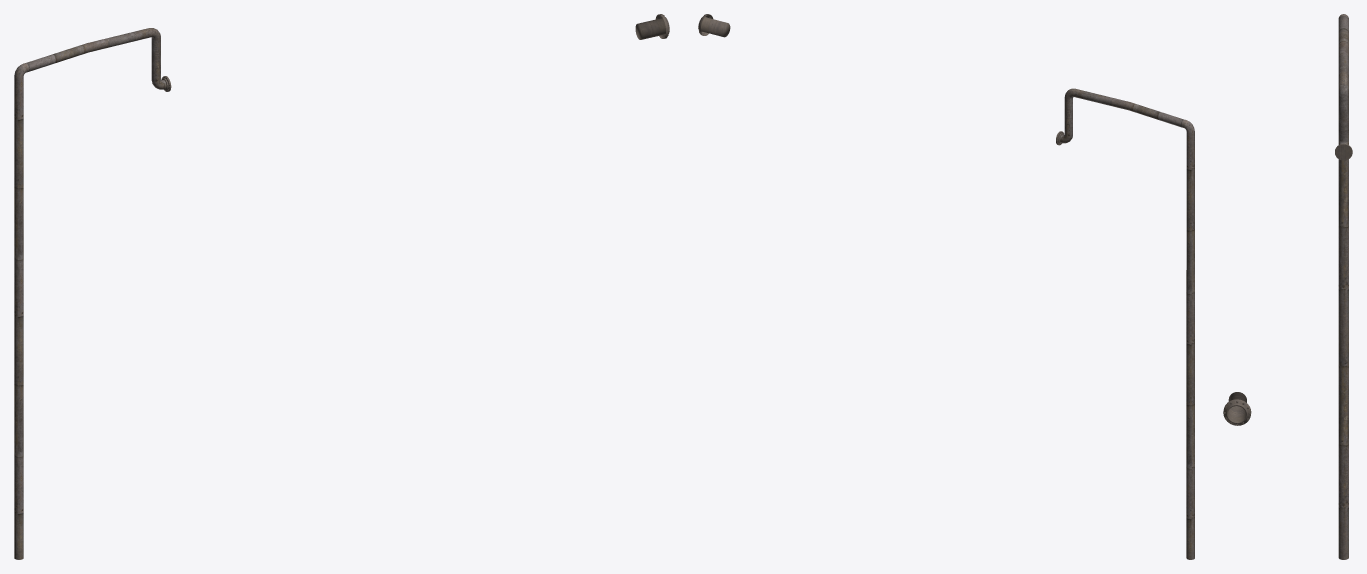
The model's file is SM_Corridor_08_03.fbx.
3 views of the same model, side by side, from view 1: azimuth 30°, elevation 25°; view 2: azimuth 150°, elevation 25°; view 3: azimuth 270°, elevation 25° (orthographic). The views are drawn at different scales.
Parts seen in each view (by area): view 1: SM_Corridor_08_03; view 2: SM_Corridor_08_03; view 3: SM_Corridor_08_03.
Part boxes in pixels (x1,y1,x2,y2): SM_Corridor_08_03: [14, 14, 669, 559]; SM_Corridor_08_03: [698, 14, 1194, 559]; SM_Corridor_08_03: [1223, 14, 1352, 559].
Bounding box in the file's own units: 5105 × 4024 × 856.
